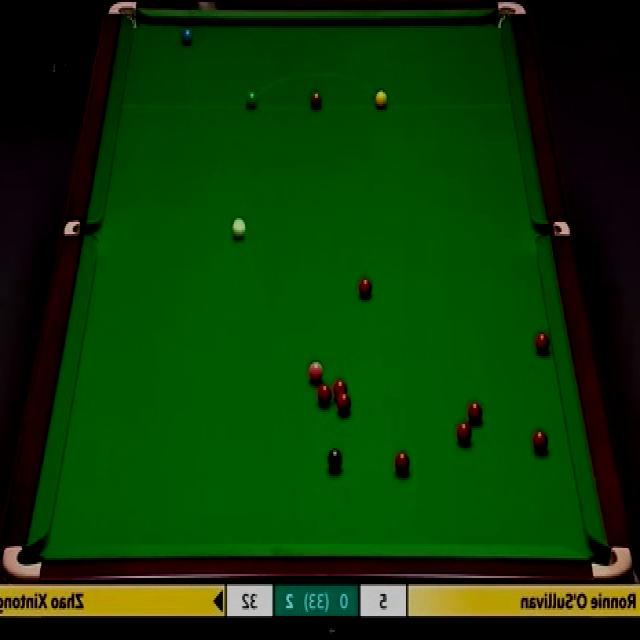black-ball: (326, 448, 343, 473)
blue-ball: (179, 22, 195, 47)
brown-ball: (309, 91, 323, 111)
green-ball: (244, 90, 258, 112)
pink-ball: (308, 361, 326, 385)
red-ball: (532, 428, 548, 456), (394, 451, 411, 477), (468, 401, 484, 427), (456, 421, 473, 445), (357, 276, 373, 300), (316, 383, 333, 405), (336, 393, 352, 416), (536, 331, 551, 355), (332, 379, 349, 400)
white-ball: (231, 214, 248, 241)
yellow-ball: (374, 90, 388, 110)
